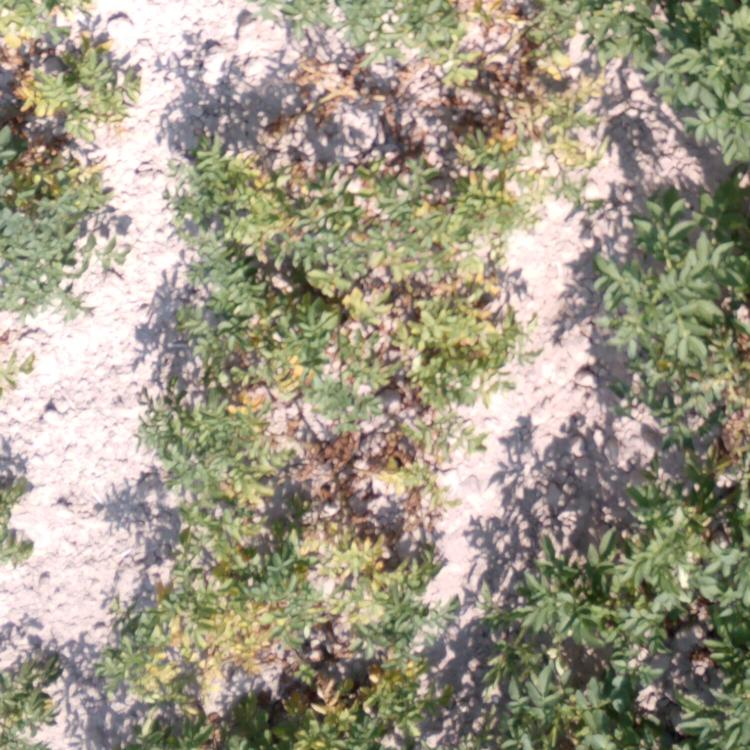healthy: (608, 414, 750, 750), (588, 169, 750, 412), (473, 555, 608, 750), (636, 2, 750, 162), (1, 207, 113, 315), (290, 1, 441, 49), (1, 648, 63, 746), (1, 481, 39, 563)
stressed: (164, 266, 507, 429), (196, 116, 450, 266), (131, 433, 437, 549), (90, 653, 438, 750), (126, 555, 437, 650), (455, 1, 628, 166), (1, 8, 128, 200), (451, 165, 521, 269)
